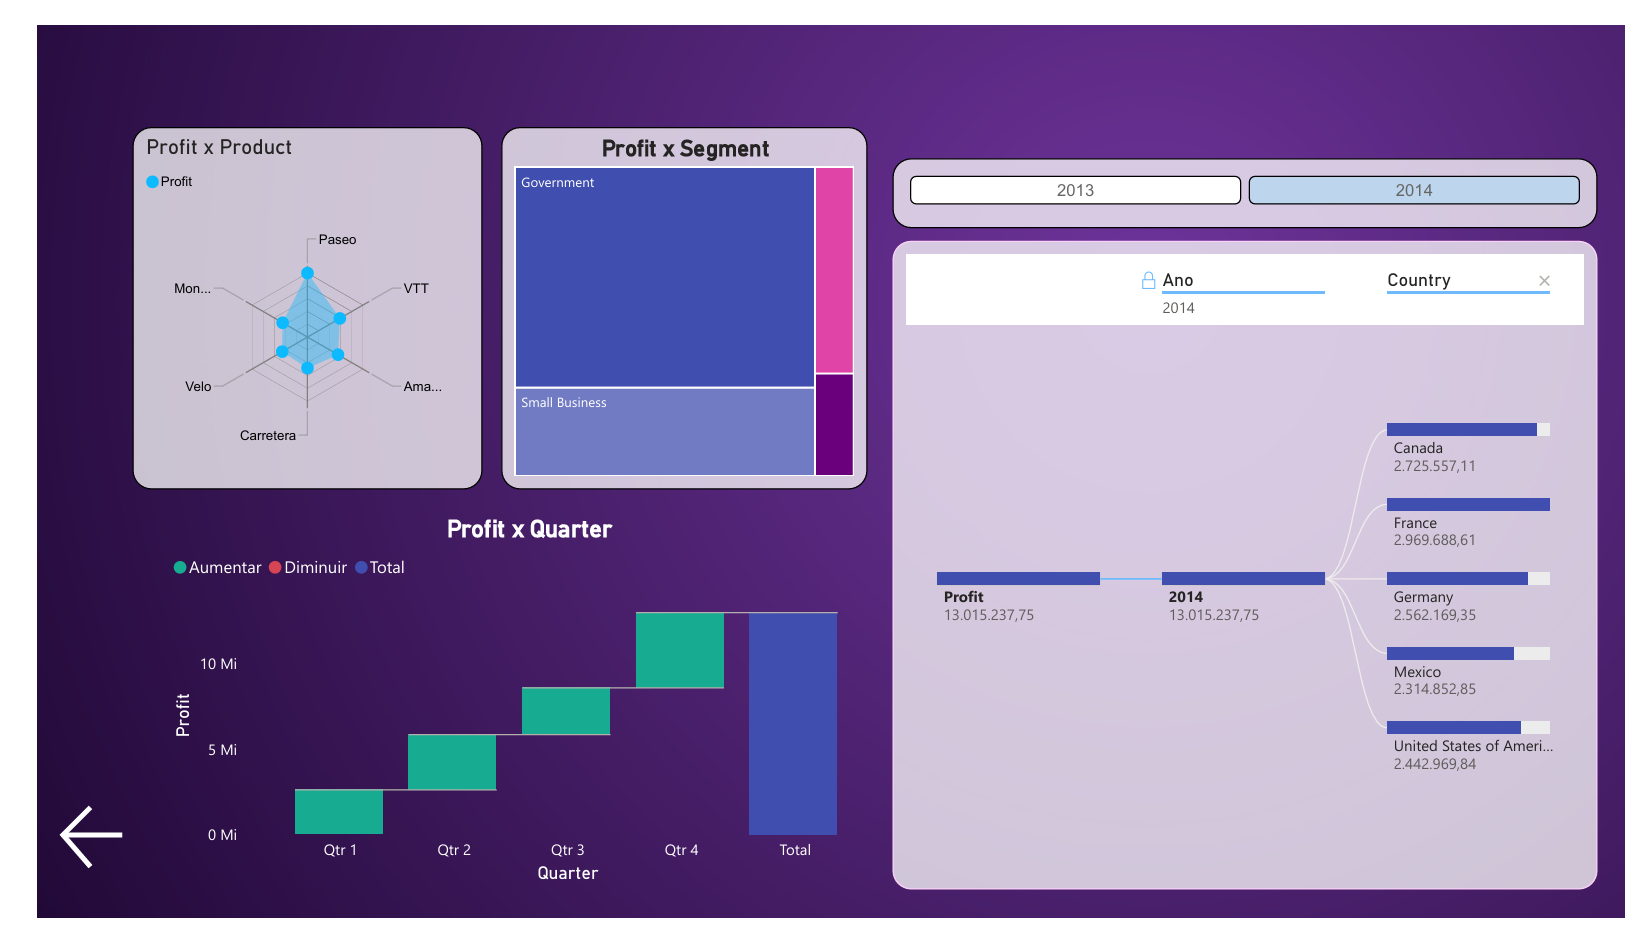

Layout of this report page (visuals, bound fields, positions):
{"tool":"powerbi","page":{"name":"Página 2","canvas":[1280,720],"ordinal":2},"visuals":[{"type":"image","box":[10,0,1270,720],"z":0},{"type":"waterfallChart","title":"Profit x Quarter","fields":{"Y":["Sum(financials.Profit)"],"Category":["financials.Date.Variation.Hierarquia de datas.Trimestre"]},"box":[112.5,393.8,581.2,300],"z":1},{"type":"treemap","title":"Profit x Segment","fields":{"Values":["Sum(financials.Profit)"],"Group":["financials.Segment"]},"box":[381.2,83.8,292.5,290],"z":2},{"type":"RadarChart1446119667547","title":"Profit x Product","fields":{"Y":["Sum(financials.Profit)"],"Category":["financials.Product"]},"box":[86.2,83.8,280,290],"z":3},{"type":"decompositionTreeVisual","fields":{"ExplainBy":["financials.Date.Variation.Hierarquia de datas.Ano","financials.Country"],"Analyze":["Sum(financials.Profit)"]},"box":[693.8,175,563.8,518.8],"z":4},{"type":"ChicletSlicer1448559807354","fields":{"Category":["financials.Date.Variation.Hierarquia de datas.Ano"]},"box":[693.8,108.8,563.8,56.2],"z":5},{"type":"actionButton","box":[22.5,621.2,63.8,61.2],"z":6}]}

Visuals, with their boxes in screenshot pixels (x1, y1, x2, y2), scaled from the page's 1280x720 canvas onto the 1647x946 screenshot:
image: pyautogui.locateOnScreen(13, 0, 1646, 945)
"Profit x Quarter" waterfallChart: pyautogui.locateOnScreen(145, 517, 893, 912)
"Profit x Segment" treemap: pyautogui.locateOnScreen(490, 110, 867, 491)
"Profit x Product" RadarChart1446119667547: pyautogui.locateOnScreen(111, 110, 471, 491)
decompositionTreeVisual - financials.Date.Variation.Hierarquia de datas.Ano x financials.Country: pyautogui.locateOnScreen(893, 230, 1618, 912)
ChicletSlicer1448559807354 - financials.Date.Variation.Hierarquia de datas.Ano: pyautogui.locateOnScreen(893, 143, 1618, 217)
actionButton: pyautogui.locateOnScreen(29, 816, 111, 897)
